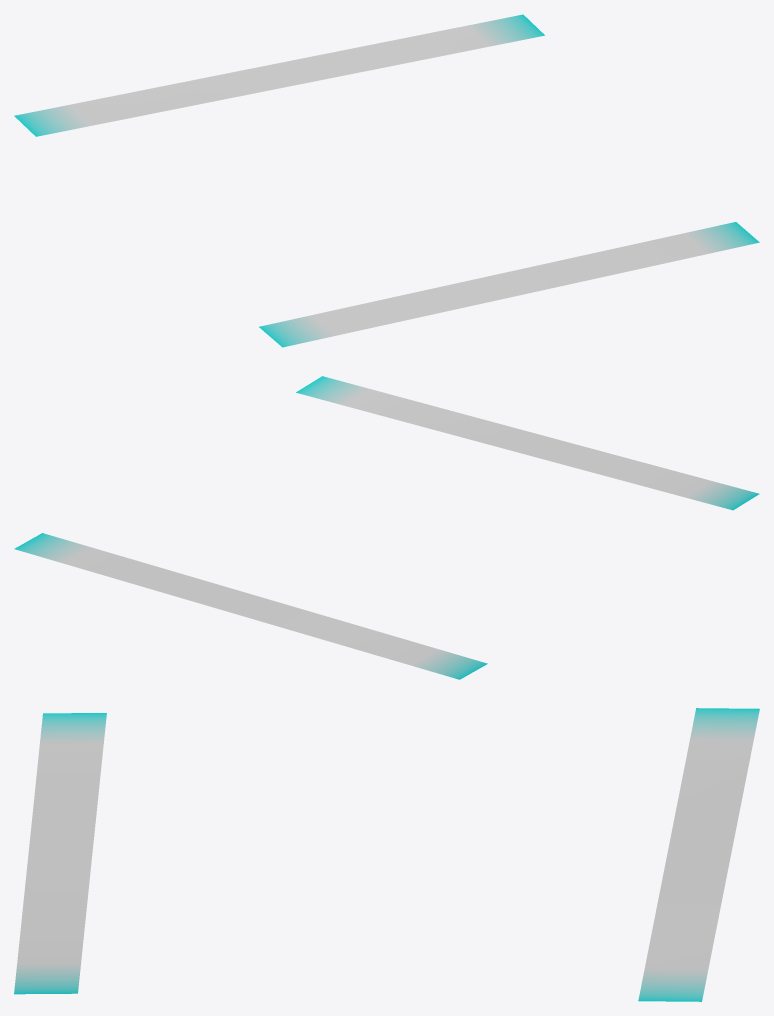
3 renders of one model, top to bottom at view 1: azimuth 30°, elevation 25°; view 2: azimuth 150°, elevation 25°; view 3: azimuth 270°, elevation 25°, orthographic. The views are drawn at different scales.
Parts seen in each view (by area): view 1: SpaceCenter_Long3_GenerateRoad_Asphalt_PCGMesh_Decal_Mesh_x9; view 2: SpaceCenter_Long3_GenerateRoad_Asphalt_PCGMesh_Decal_Mesh_x9; view 3: SpaceCenter_Long3_GenerateRoad_Asphalt_PCGMesh_Decal_Mesh_x9.
Boxes of the visible parts, box(x1,y1,x2,y2) form: SpaceCenter_Long3_GenerateRoad_Asphalt_PCGMesh_Decal_Mesh_x9: box(14, 14, 759, 347); SpaceCenter_Long3_GenerateRoad_Asphalt_PCGMesh_Decal_Mesh_x9: box(14, 376, 759, 679); SpaceCenter_Long3_GenerateRoad_Asphalt_PCGMesh_Decal_Mesh_x9: box(14, 708, 759, 1001).
Size of the model in its own units: 419 by 407 by 10.87.
